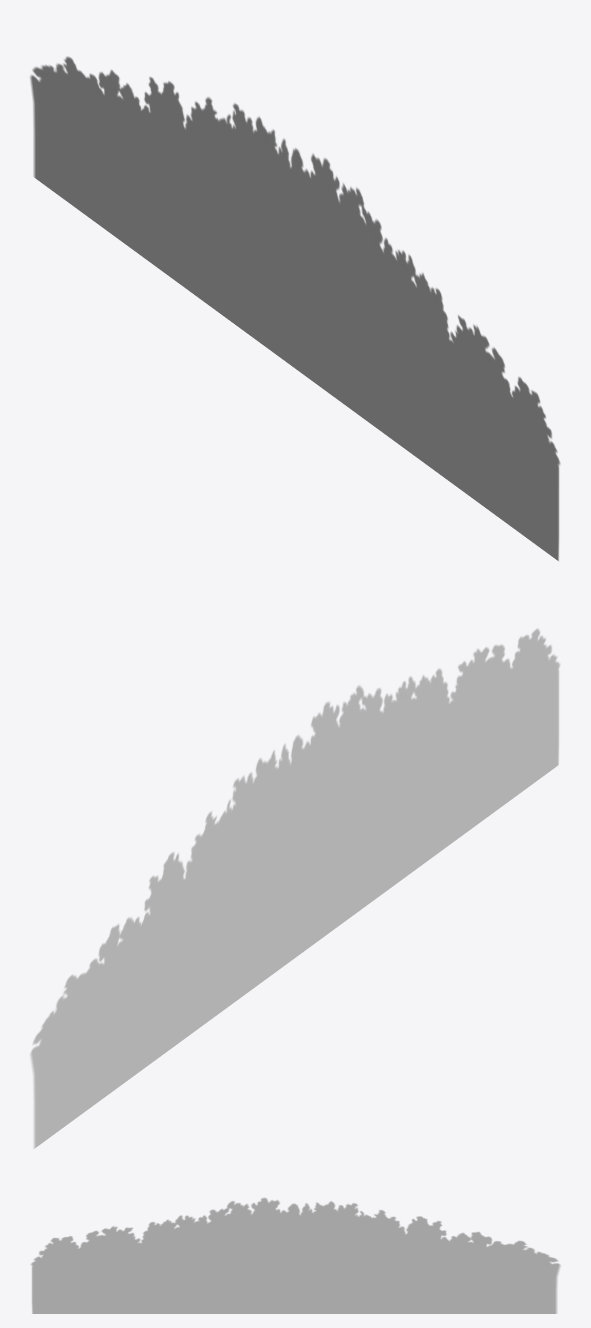
The picture shows the model from 3 angles, top to bottom: view 1: azimuth 30°, elevation 25°; view 2: azimuth 150°, elevation 25°; view 3: azimuth 270°, elevation 25°; orthographic projection. The views are drawn at different scales.
Visible parts, largest first — view 1: body0_model0_lod0_mesh0; view 2: body0_model0_lod0_mesh0; view 3: body0_model0_lod0_mesh0.
Boxes of the visible parts, left/top/right/bottom form: body0_model0_lod0_mesh0: left=30, top=56, right=560, bottom=560; body0_model0_lod0_mesh0: left=30, top=628, right=560, bottom=1148; body0_model0_lod0_mesh0: left=30, top=1197, right=560, bottom=1313.
Bounding box in the file's own units: 0 × 122 × 512.
Materials: 1 (1 with a texture image).
